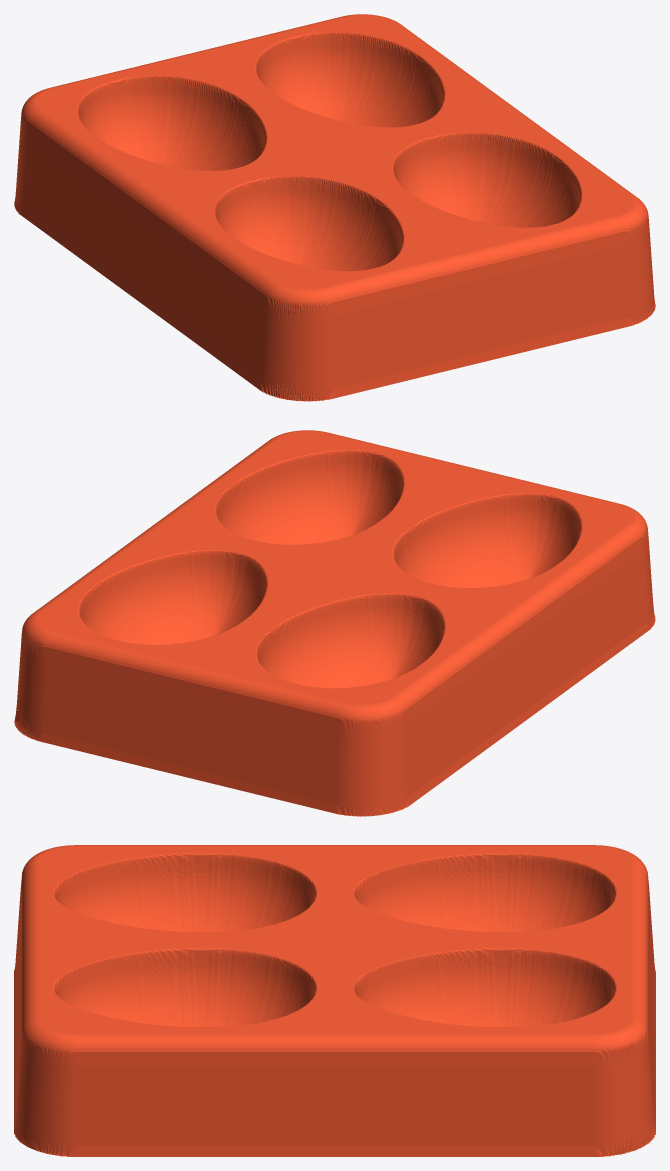
The model's file is mold.glb.
The picture shows the model from 3 angles, top to bottom: view 1: azimuth 30°, elevation 25°; view 2: azimuth 150°, elevation 25°; view 3: azimuth 270°, elevation 25°; orthographic projection. The views are drawn at different scales.
Visible parts, largest first — view 1: geometry_0; view 2: geometry_0; view 3: geometry_0.
Part boxes in pixels (x1,y1,x2,y2): geometry_0: (14, 14, 655, 401); geometry_0: (14, 430, 655, 816); geometry_0: (14, 845, 655, 1156).
Size of the model in its own units: 0.0722 by 0.0182 by 0.0942.
